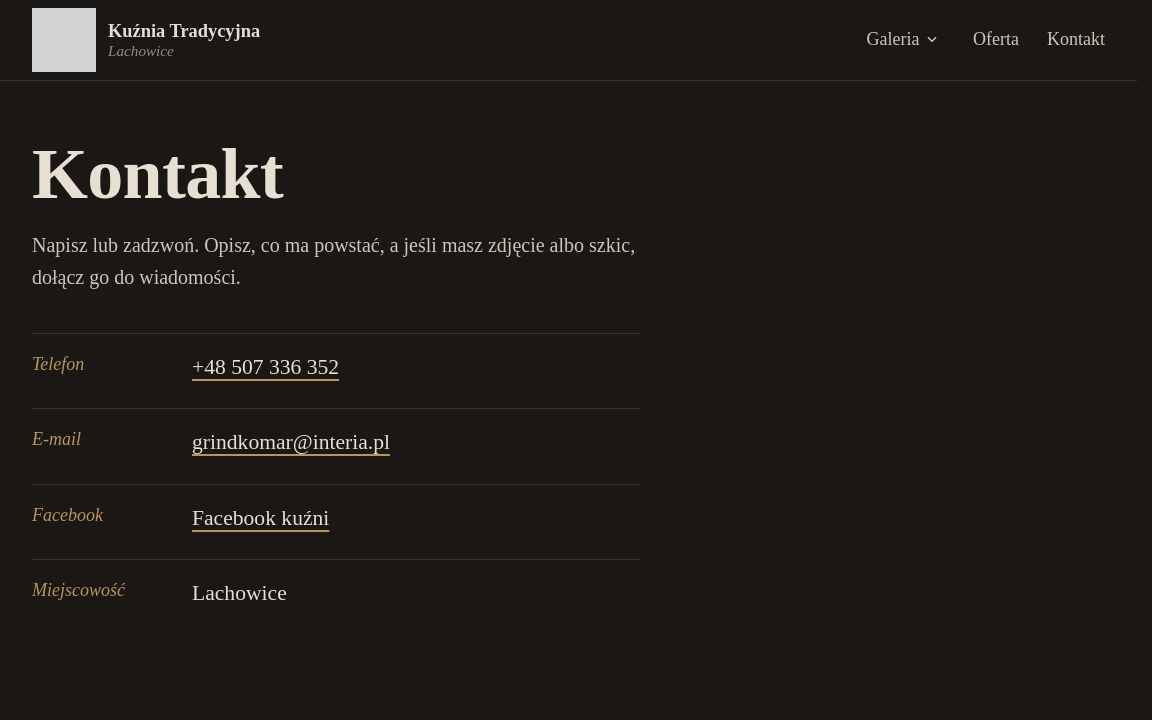
Test: main navigation (wide screens) › opens the Galeria panel with every gallery, grouped, and a link to all of them
Click the button "Galeria": (903, 40) [860, 14, 945, 66]
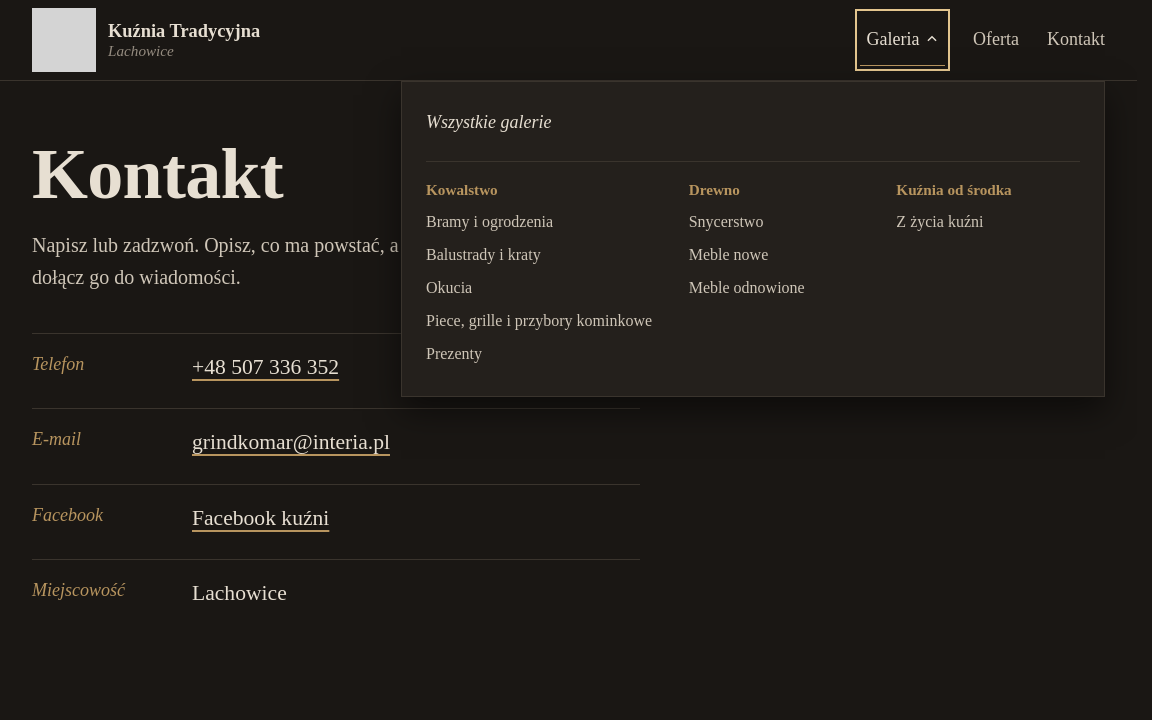
Expected: the button "Galeria" is expanded, [860, 14, 945, 66]
